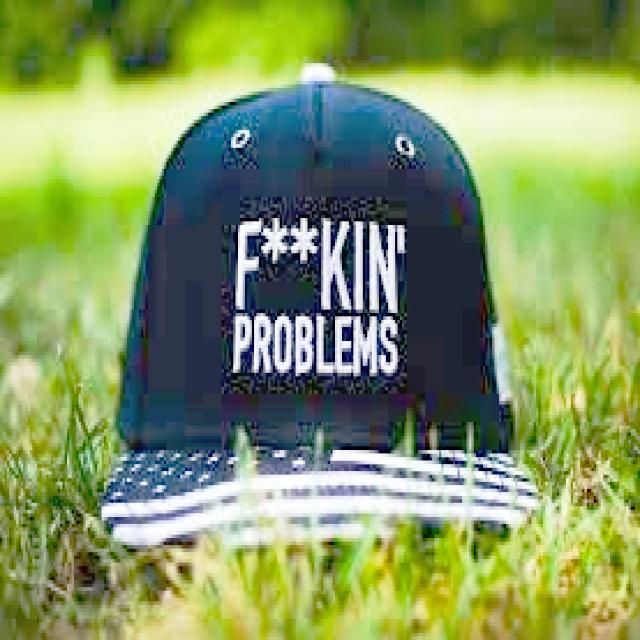TOPI: (95, 53, 543, 545)
